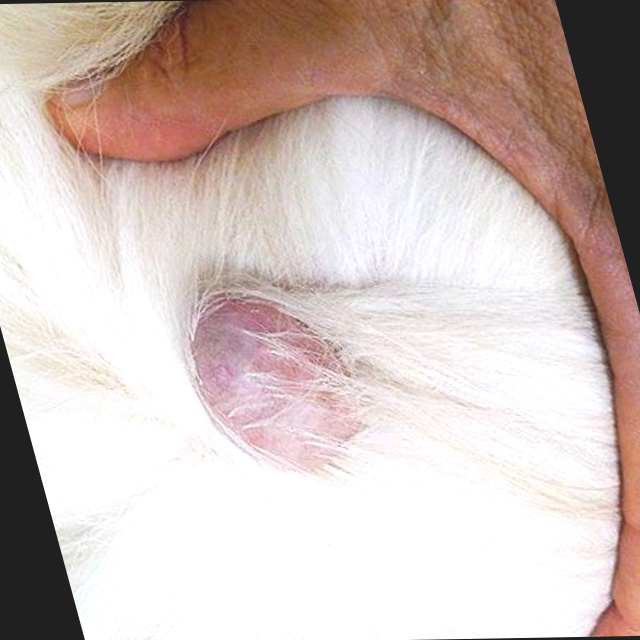lump_and_bump: (175, 282, 370, 481)
